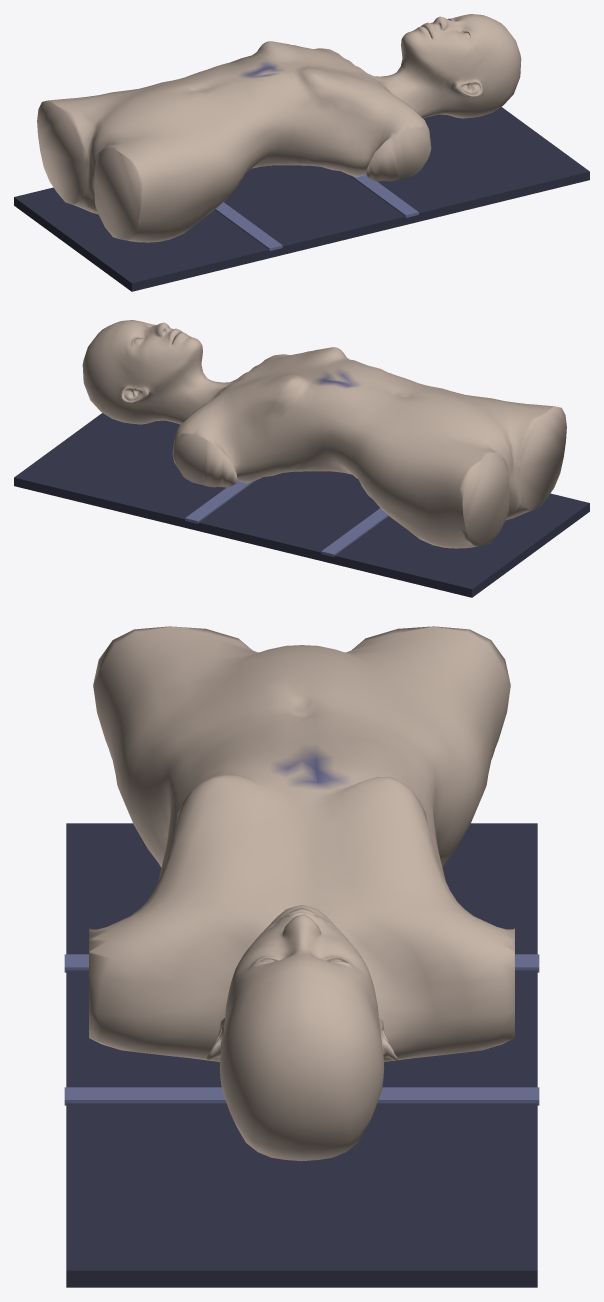
Rendered from maniqui_rcp.glb.
3 renders of one model, top to bottom at view 1: azimuth 30°, elevation 25°; view 2: azimuth 150°, elevation 25°; view 3: azimuth 270°, elevation 25°, orthographic. The views are drawn at different scales.
Visible parts, largest first — view 1: Maniqui_RCP; view 2: Maniqui_RCP; view 3: Maniqui_RCP.
Part boxes in pixels (x1,y1,x2,y2): Maniqui_RCP: (14, 14, 589, 291); Maniqui_RCP: (14, 320, 589, 597); Maniqui_RCP: (64, 626, 539, 1287).
Size of the model in its own units: 1.4 by 0.4154 by 0.6295.
